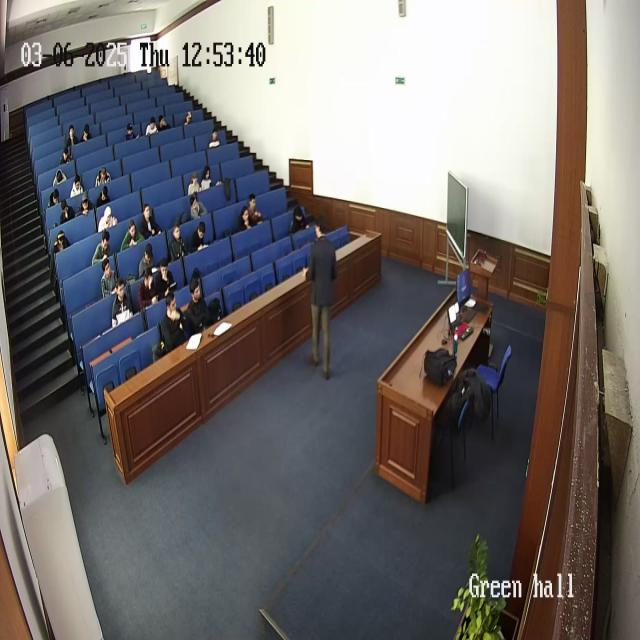person: (306, 215, 338, 379), (158, 290, 188, 354), (186, 274, 214, 333), (112, 277, 134, 328), (153, 255, 175, 303), (137, 265, 159, 312), (138, 244, 160, 282), (168, 223, 188, 263), (93, 231, 114, 269), (101, 255, 119, 299), (120, 220, 144, 253), (140, 203, 158, 240), (190, 220, 210, 253), (98, 205, 118, 234), (190, 190, 208, 222), (51, 229, 70, 258), (247, 193, 263, 227), (290, 205, 308, 235), (236, 205, 253, 234), (57, 199, 75, 226), (95, 185, 112, 211), (68, 174, 84, 201), (78, 192, 93, 220), (186, 171, 201, 197), (199, 164, 213, 190), (96, 164, 110, 188), (66, 122, 78, 148), (48, 187, 62, 209), (52, 168, 67, 188), (144, 115, 158, 136), (62, 140, 74, 163), (208, 127, 220, 149), (156, 111, 168, 133), (124, 120, 137, 140), (80, 123, 92, 143), (184, 108, 192, 126)
